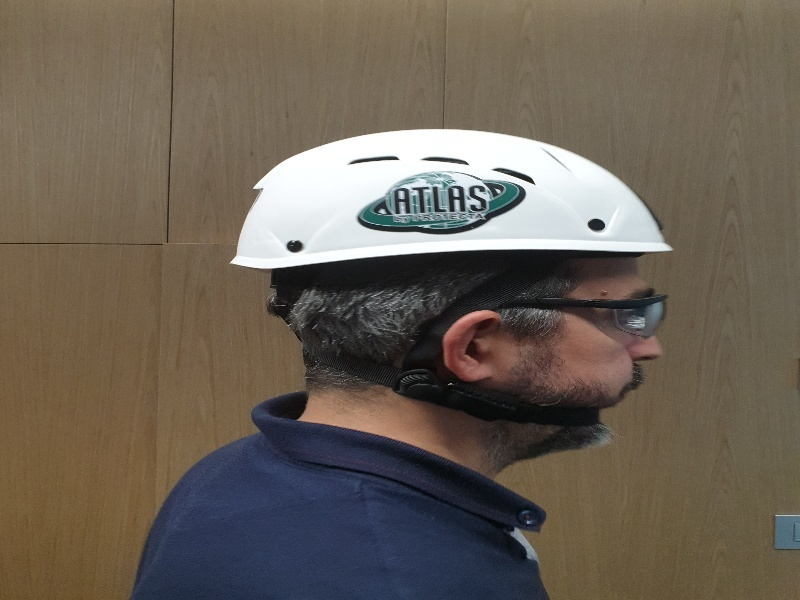baret: (226, 126, 675, 289)
gozluk: (476, 287, 671, 344)
